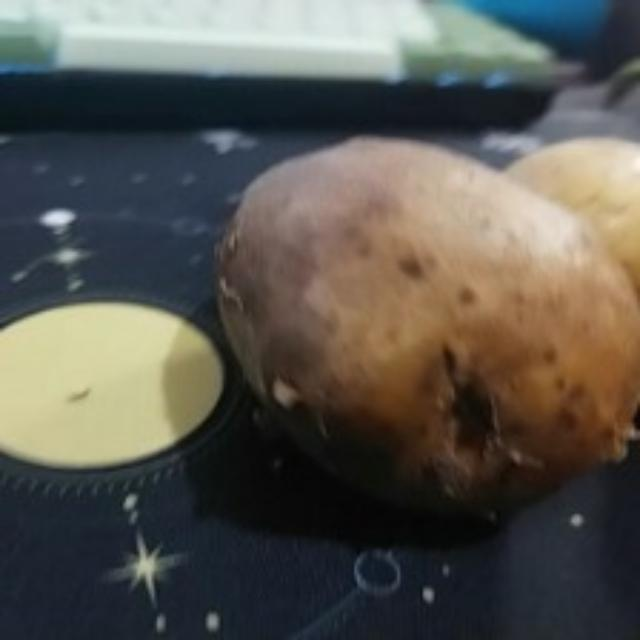Damaged potato: (220, 142, 640, 500)
Potato: (498, 128, 640, 262)
